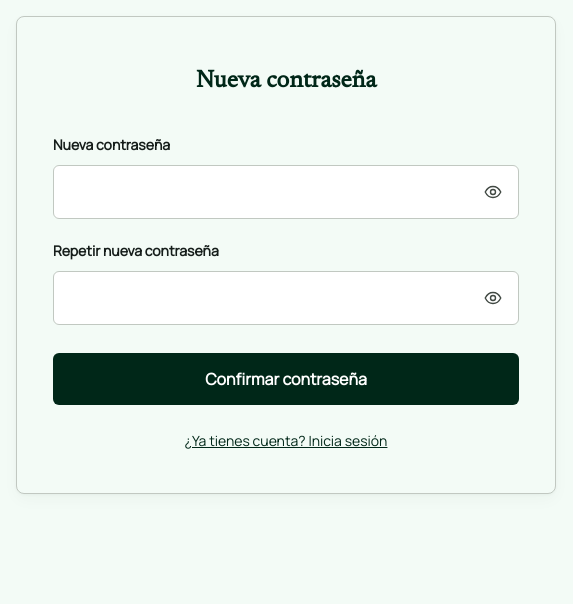
Test: ResetPassword Page › maps a 400 with field errors to the corresponding fields
The image size is (573, 604).
Type "Password123!" into the password field labelled "Nueva contraseña" at (286, 192), box [53,165,519,219]
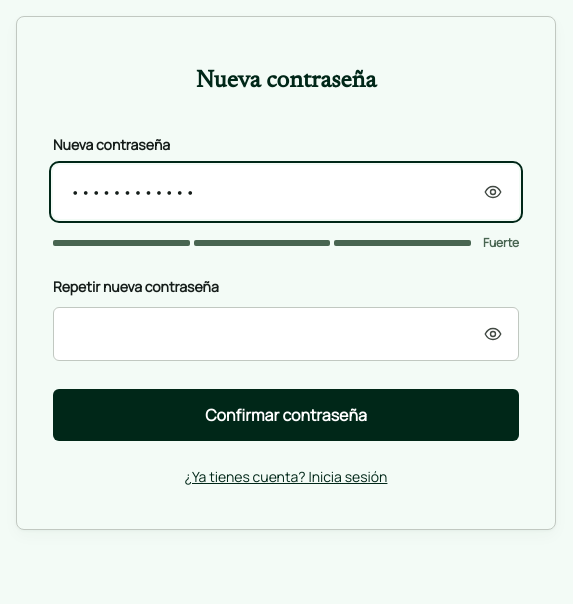
Type "Password123!" into the password field labelled "Repetir nueva contraseña" at (286, 334), box [53,307,519,361]
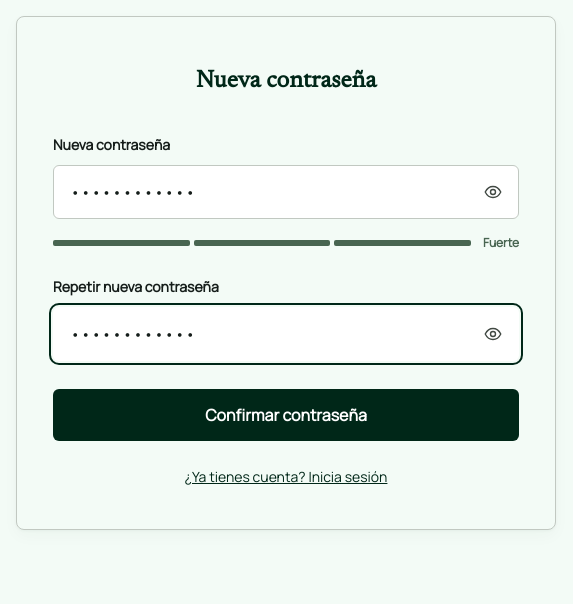
Click the button "Confirmar contraseña" at (286, 415), box [53,389,519,441]
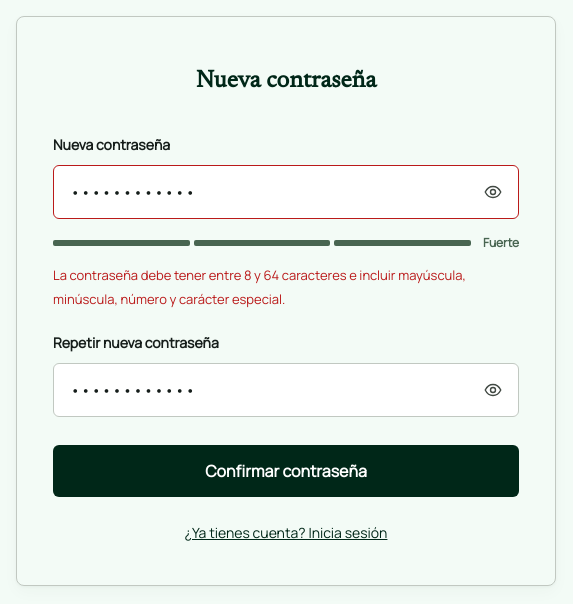
expect the text "La contraseña debe tener entre 8 y 64 caracteres e incluir mayúscula, minúscula, número y carácter especial." is shown: met, box [53,266,466,308]
